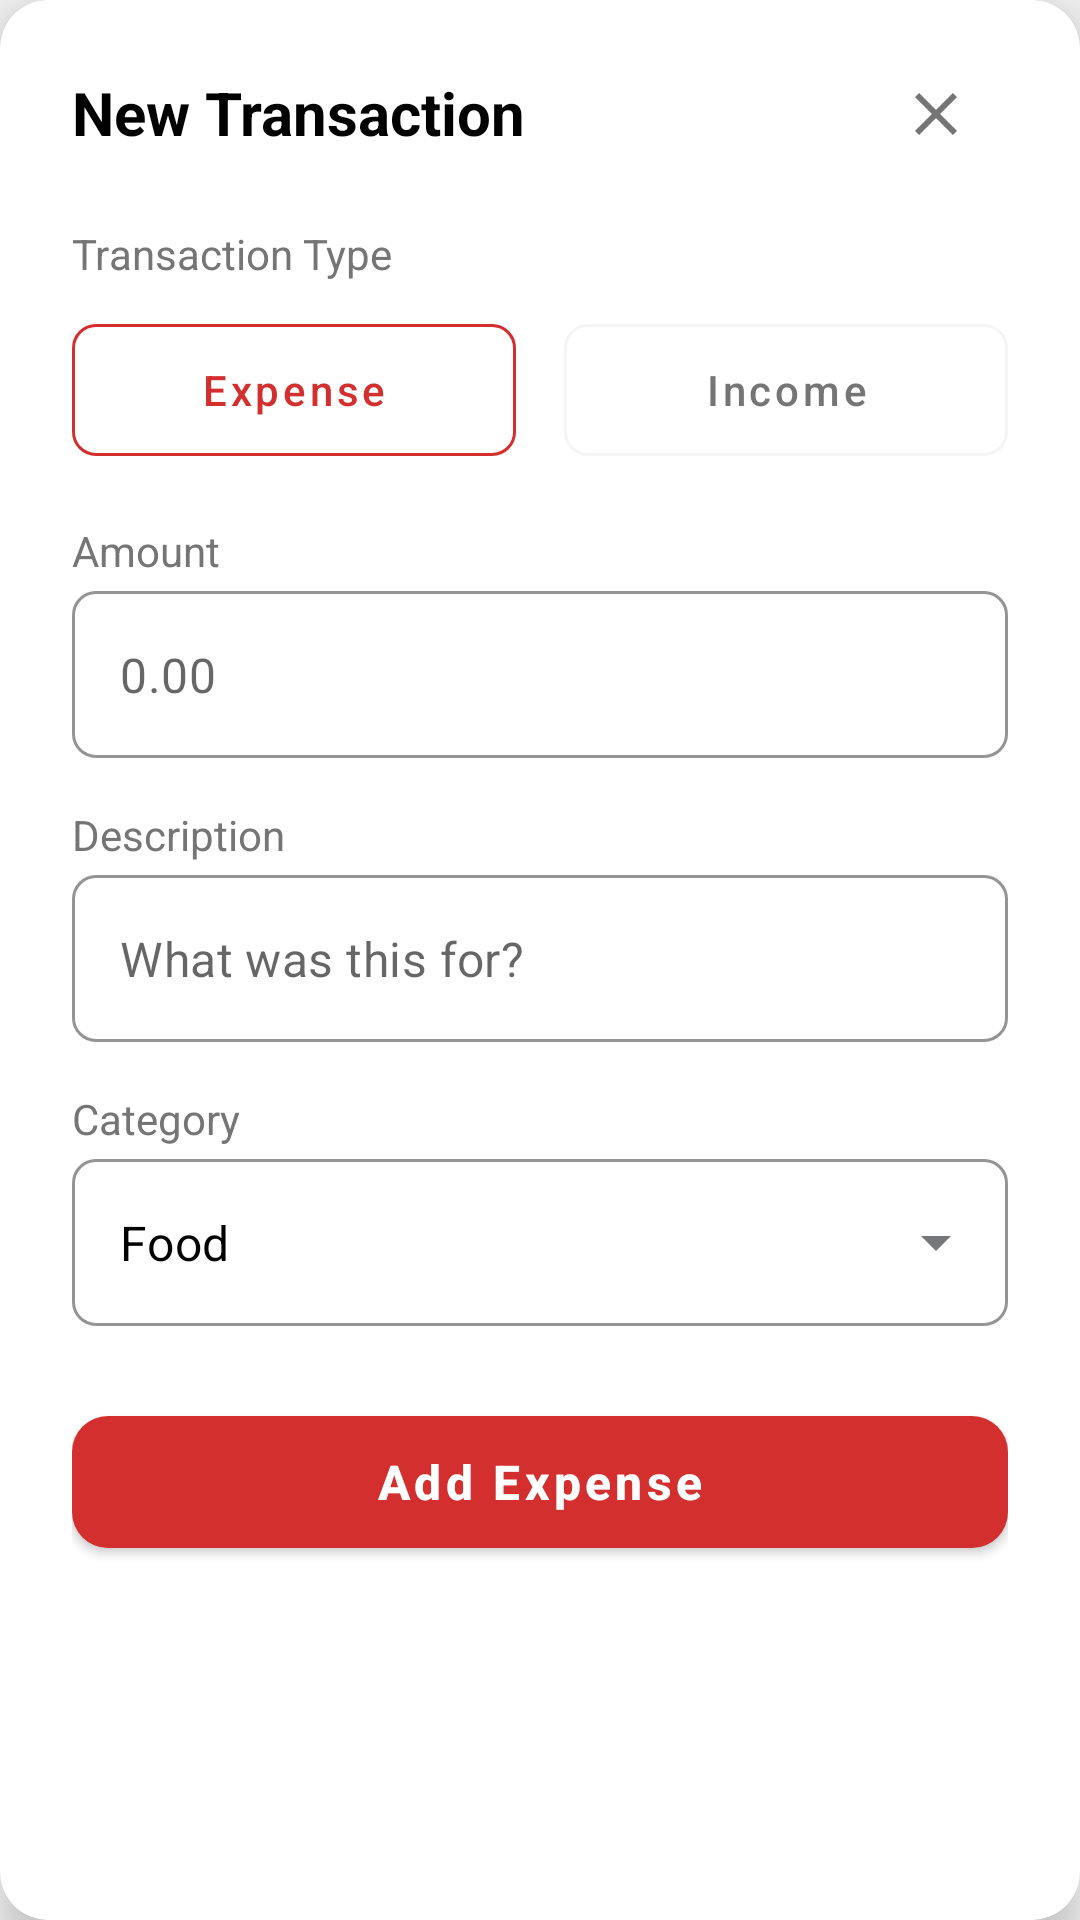

Icons on this 1080x1920 Android screen, each with the point to tap as point (x, y):
Close: point (936, 114)
